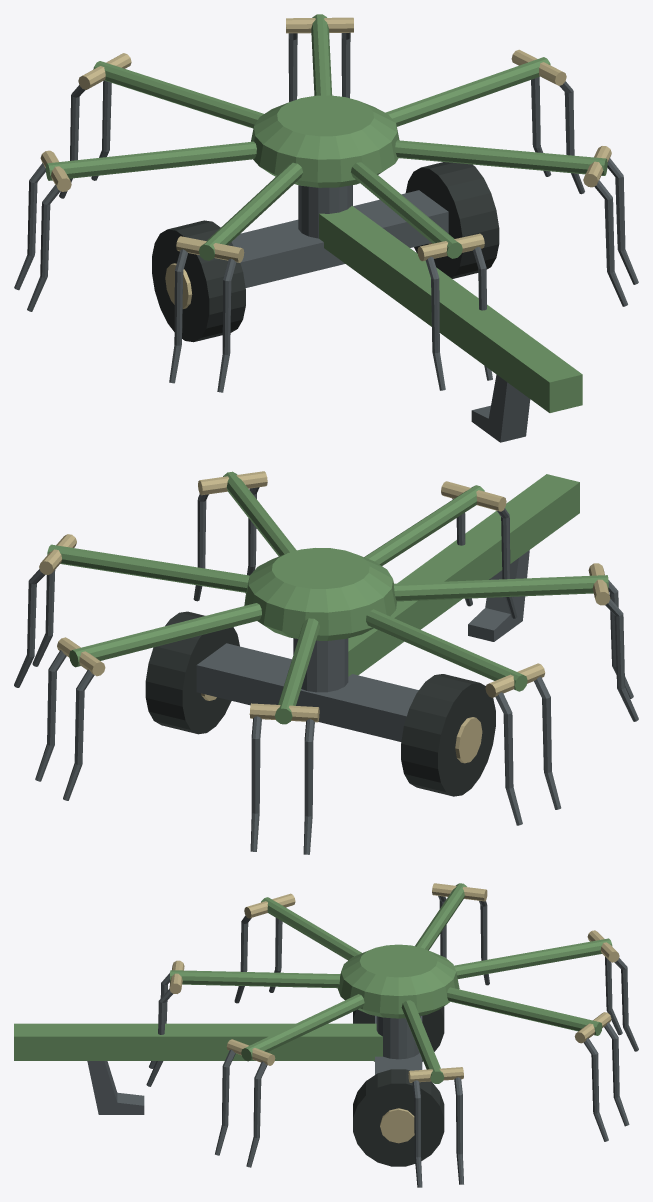
3 views of the same model, one above another, from view 1: azimuth 30°, elevation 25°; view 2: azimuth 150°, elevation 25°; view 3: azimuth 270°, elevation 25° (orthographic). The views are drawn at different scales.
Parts seen in each view (by area): view 1: WholeForwardLowDrawFrame, WholeRaisedRotorDrum, WholeCentralLowCrossFrame, WholeSmallFiniteSoleWheel0, WholeSmallFiniteSoleWheel1, WholeLongRadialCarrierArm6, WholeLongRadialCarrierArm3, WholeLongRadialCarrierArm2, WholeLongRadialCarrierArm0, WholeParkingPropAndFiniteSole, WholeLongRadialCarrierArm5, WholeLongRadialCarrierArm4 (+22 smaller); view 2: WholeForwardLowDrawFrame, WholeRaisedRotorDrum, WholeCentralLowCrossFrame, WholeSmallFiniteSoleWheel0, WholeSmallFiniteSoleWheel1, WholeLongRadialCarrierArm4, WholeLongRadialCarrierArm0, WholeLongRadialCarrierArm1, WholeLongRadialCarrierArm3, WholeLongRadialCarrierArm5, WholeParkingPropAndFiniteSole, WholeUprightRotorPedestal (+22 smaller); view 3: WholeForwardLowDrawFrame, WholeRaisedRotorDrum, WholeSmallFiniteSoleWheel1, WholeLongRadialCarrierArm5, WholeLongRadialCarrierArm2, WholeLongRadialCarrierArm1, WholeLongRadialCarrierArm6, WholeParkingPropAndFiniteSole, WholeLongRadialCarrierArm4, WholeUprightRotorPedestal, WholeLongRadialCarrierArm0, WholeLongRadialCarrierArm3 (+19 smaller).
Boxes of the visible parts, left/top/right/bottom form: WholeForwardLowDrawFrame: left=319, top=206, right=582, bottom=412; WholeRaisedRotorDrum: left=251, top=95, right=399, bottom=187; WholeCentralLowCrossFrame: left=231, top=190, right=448, bottom=287; WholeSmallFiniteSoleWheel0: left=152, top=220, right=245, bottom=342; WholeSmallFiniteSoleWheel1: left=405, top=162, right=499, bottom=278; WholeLongRadialCarrierArm6: left=395, top=140, right=607, bottom=175; WholeLongRadialCarrierArm3: left=45, top=141, right=256, bottom=180; WholeLongRadialCarrierArm2: left=93, top=61, right=263, bottom=128; WholeLongRadialCarrierArm0: left=385, top=57, right=550, bottom=126; WholeParkingPropAndFiniteSole: left=471, top=374, right=530, bottom=442; WholeLongRadialCarrierArm5: left=351, top=162, right=462, bottom=258; WholeLongRadialCarrierArm4: left=198, top=162, right=302, bottom=260; WholeForwardLowDrawFrame: left=348, top=474, right=579, bottom=676; WholeRaisedRotorDrum: left=244, top=548, right=396, bottom=640; WholeCentralLowCrossFrame: left=196, top=643, right=418, bottom=741; WholeSmallFiniteSoleWheel0: left=401, top=674, right=495, bottom=796; WholeSmallFiniteSoleWheel1: left=145, top=611, right=239, bottom=734; WholeLongRadialCarrierArm4: left=394, top=575, right=608, bottom=601; WholeLongRadialCarrierArm0: left=47, top=544, right=249, bottom=592; WholeLongRadialCarrierArm1: left=69, top=603, right=261, bottom=667; WholeLongRadialCarrierArm3: left=366, top=609, right=527, bottom=691; WholeLongRadialCarrierArm5: left=364, top=485, right=484, bottom=565; WholeParkingPropAndFiniteSole: left=468, top=550, right=529, bottom=641; WholeUprightRotorPedestal: left=293, top=638, right=348, bottom=692; WholeForwardLowDrawFrame: left=14, top=1023, right=382, bottom=1060; WholeRaisedRotorDrum: left=337, top=944, right=459, bottom=1018; WholeSmallFiniteSoleWheel1: left=353, top=1069, right=444, bottom=1166; WholeLongRadialCarrierArm5: left=170, top=970, right=340, bottom=988; WholeLongRadialCarrierArm2: left=454, top=938, right=612, bottom=978; WholeLongRadialCarrierArm1: left=447, top=987, right=602, bottom=1035; WholeLongRadialCarrierArm6: left=241, top=994, right=364, bottom=1061; WholeParkingPropAndFiniteSole: left=87, top=1061, right=144, bottom=1114; WholeLongRadialCarrierArm4: left=261, top=897, right=361, bottom=960; WholeUprightRotorPedestal: left=376, top=1016, right=420, bottom=1059; WholeLongRadialCarrierArm0: left=401, top=1000, right=444, bottom=1083; WholeLongRadialCarrierArm3: left=415, top=883, right=466, bottom=950.
Size of the model in its own units: 2.94 by 0.97 by 3.69.
